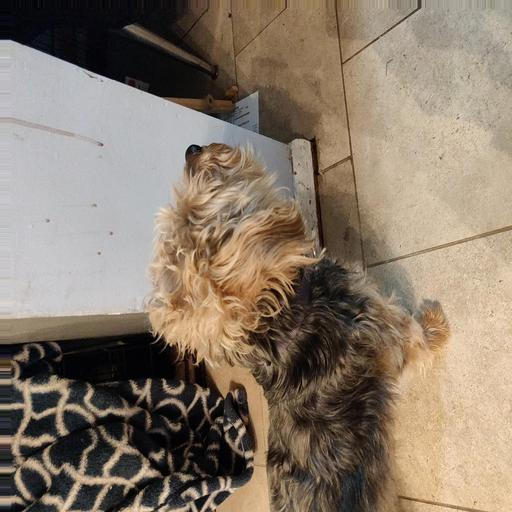dog: (137, 134, 407, 404)
